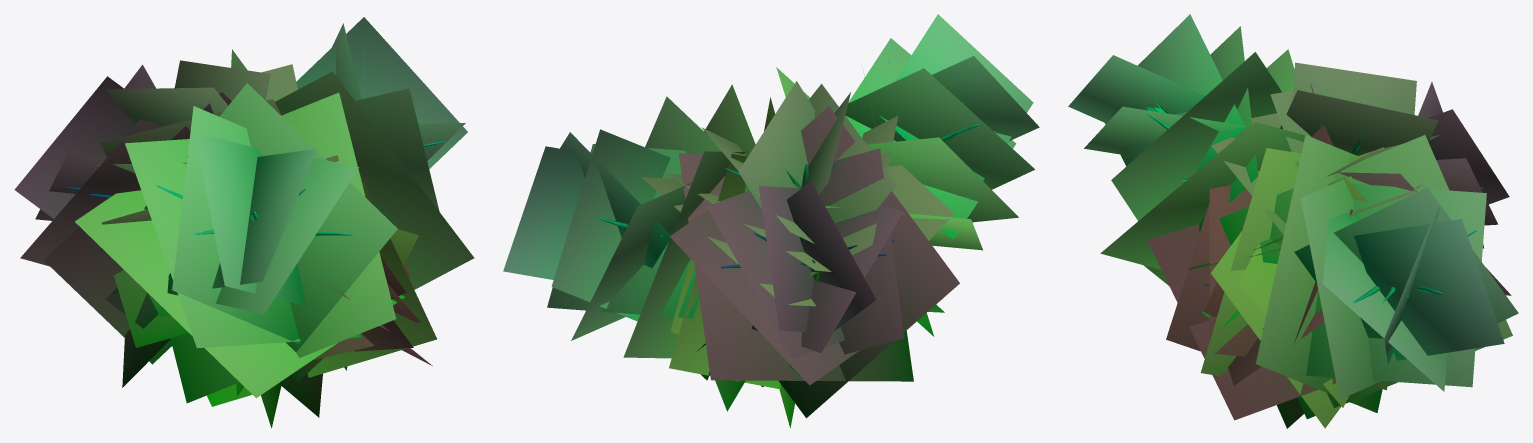
File: Arbusto2.fbx
The picture shows the model from 3 angles, left to right: view 1: azimuth 30°, elevation 25°; view 2: azimuth 150°, elevation 25°; view 3: azimuth 270°, elevation 25°; orthographic projection. The views are drawn at different scales.
Visible parts, largest first — view 1: Tree_1, Tree_0; view 2: Tree_1, Tree_0; view 3: Tree_1, Tree_0.
Boxes of the visible parts, box(x1,y1,x2,y2) form: Tree_1: box(14, 17, 474, 428); Tree_0: box(67, 141, 445, 236); Tree_1: box(503, 14, 1039, 428); Tree_0: box(595, 62, 995, 268); Tree_1: box(1068, 14, 1518, 428); Tree_0: box(1146, 101, 1476, 329).
Size of the model in its own units: 100 by 79 by 95.51.
